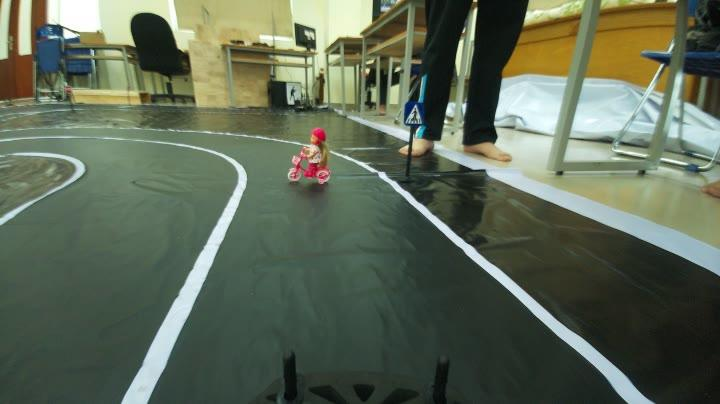crosswalk: (399, 99, 428, 125)
pedestrian: (282, 123, 341, 184)
